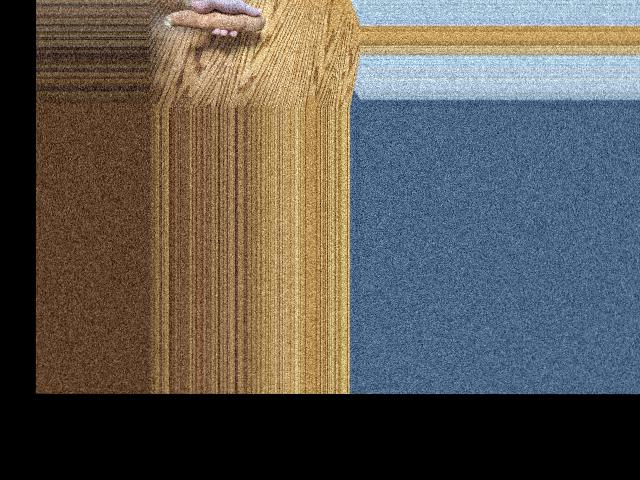sweet_potato: (162, 3, 272, 36)
